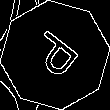P_SE: (24, 25, 86, 85)
